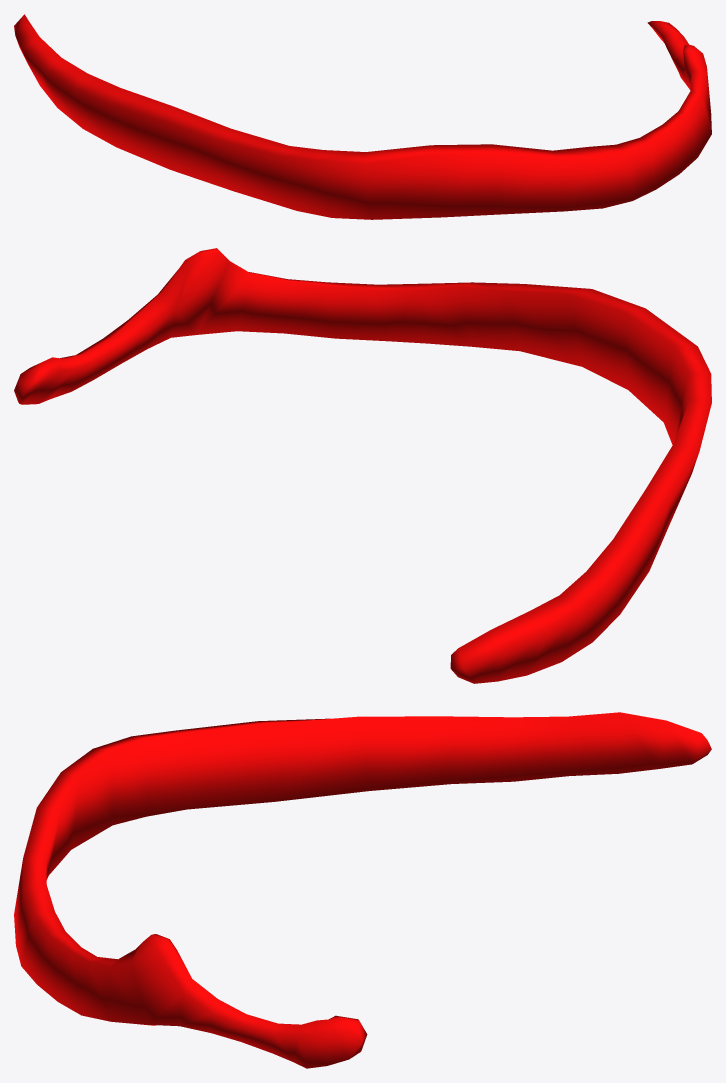
File: SM_R_Ribs_1.FBX
3 views of the same model, one above another, from view 1: azimuth 30°, elevation 25°; view 2: azimuth 150°, elevation 25°; view 3: azimuth 270°, elevation 25° (orthographic). The views are drawn at different scales.
Visible parts, largest first — view 1: R_Ribs_1; view 2: R_Ribs_1; view 3: R_Ribs_1.
Boxes of the visible parts, left/top/right/bottom form: R_Ribs_1: left=14, top=14, right=711, bottom=219; R_Ribs_1: left=14, top=248, right=711, bottom=683; R_Ribs_1: left=14, top=712, right=711, bottom=1068.
Size of the model in its own units: 14.44 by 2.16 by 14.12.
